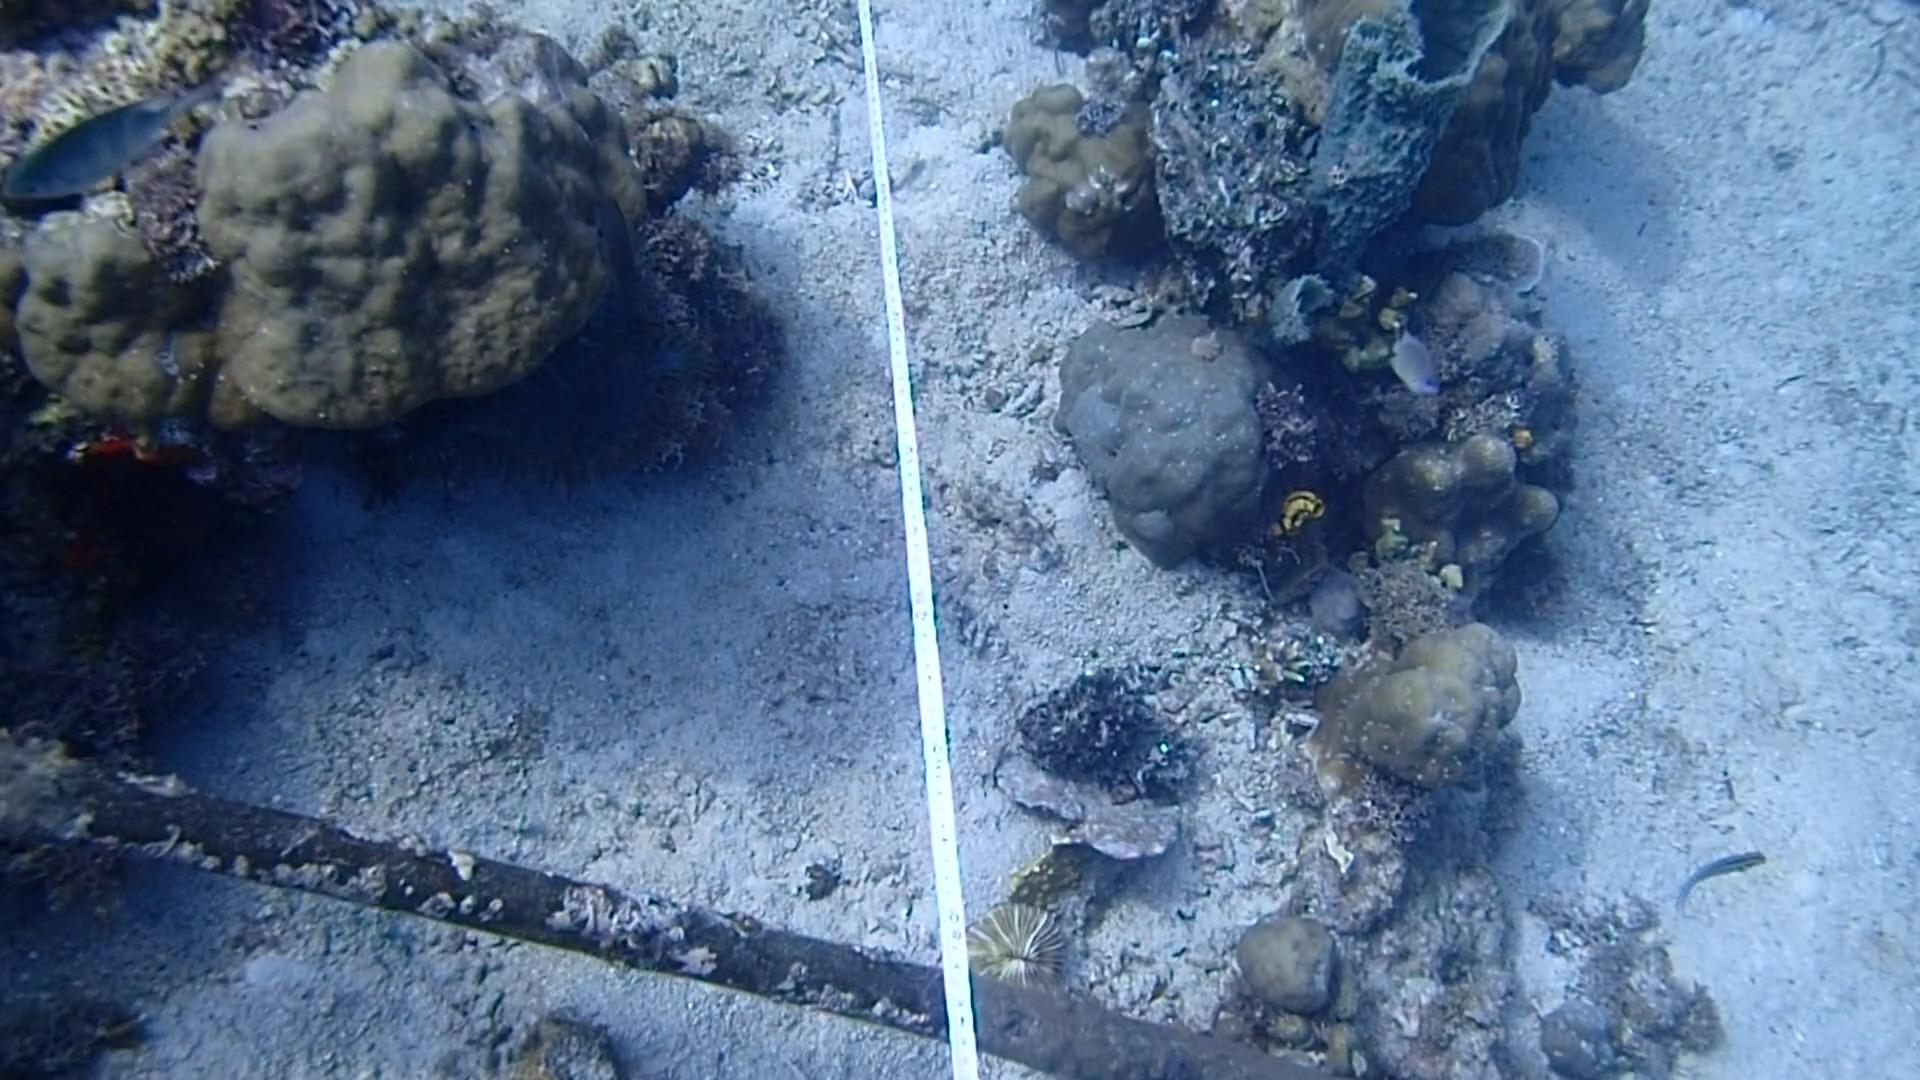Blue Fish: (5, 84, 208, 215)
Blue Nose Fish: (1386, 322, 1441, 406)
Dark Fish: (578, 189, 663, 331)
Striped Fish: (1660, 828, 1774, 915)
